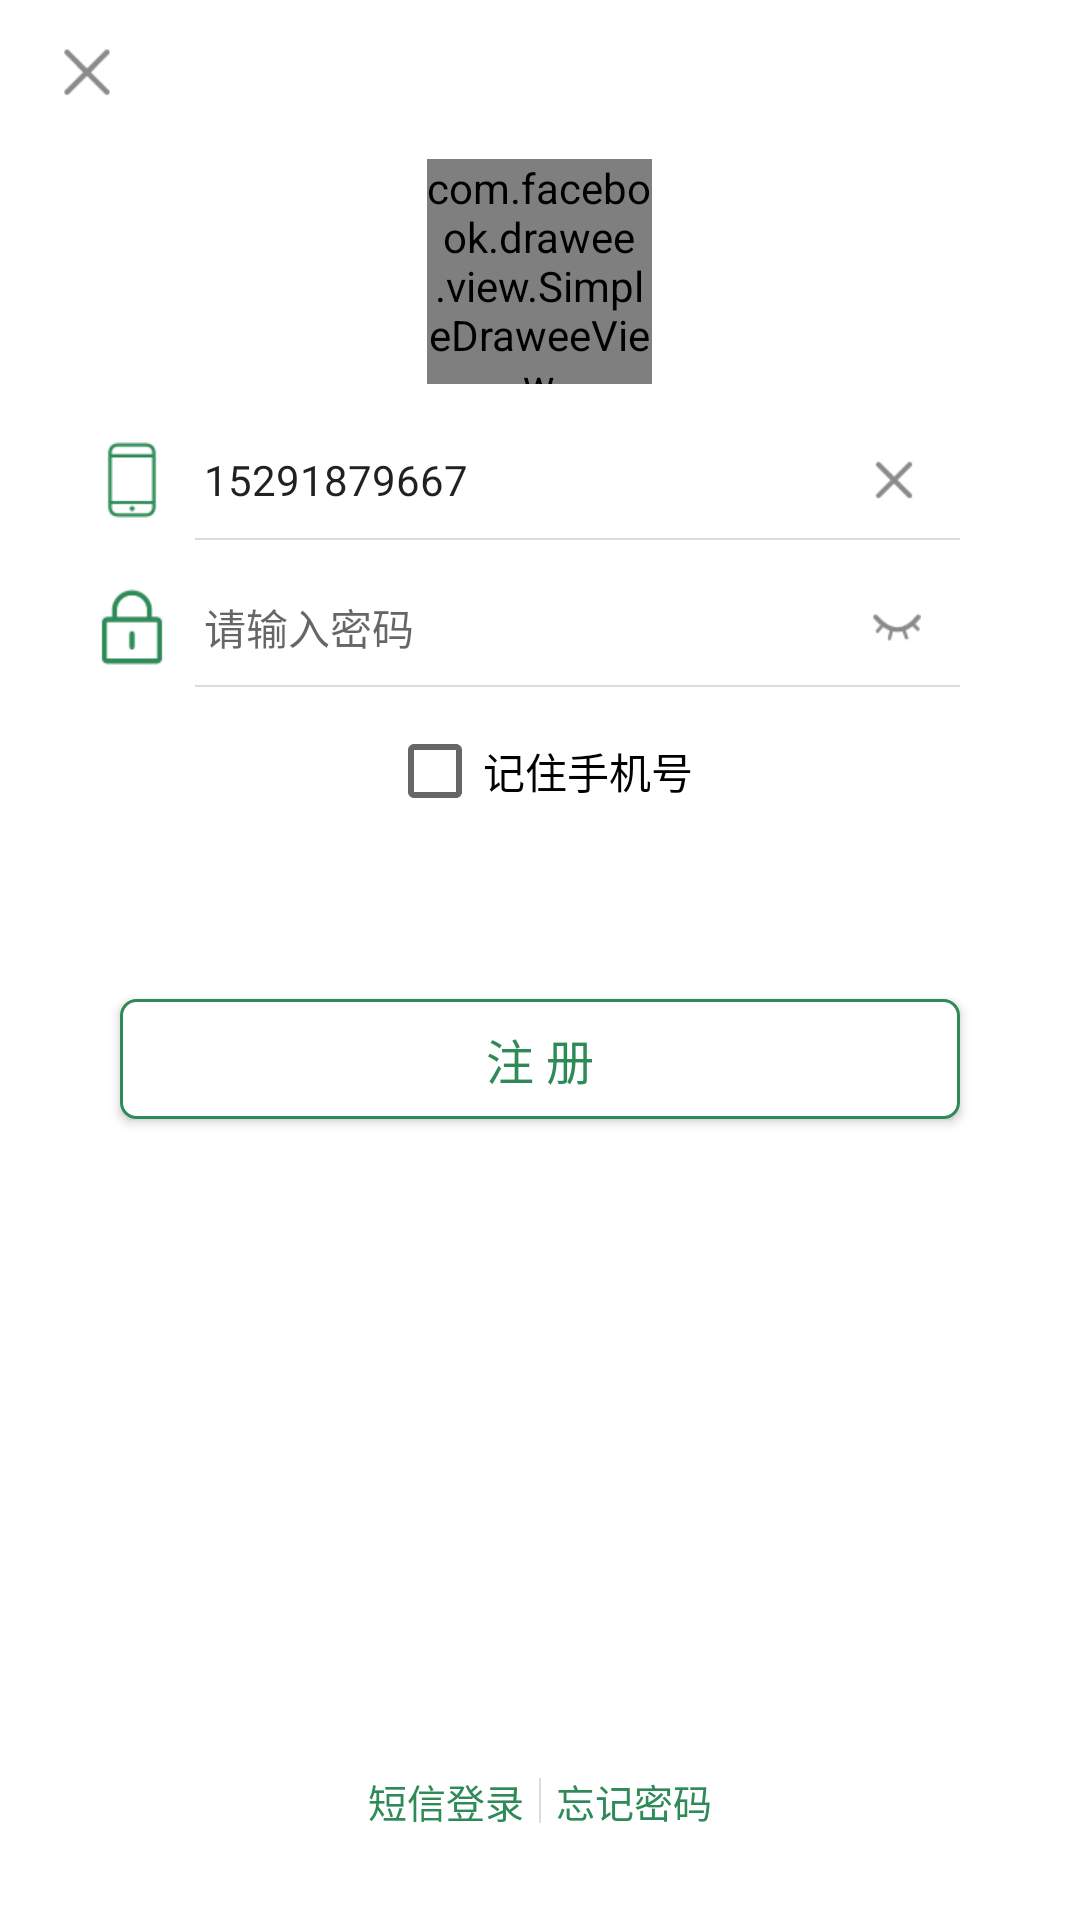

Icons on this 1080px x 1920px Android screen, each with its box as rect(x1, y1, x2, y2):
clear: rect(876, 462, 912, 498)
close: rect(64, 49, 110, 95)
login pwd: rect(101, 589, 163, 665)
login user: rect(107, 442, 157, 518)
